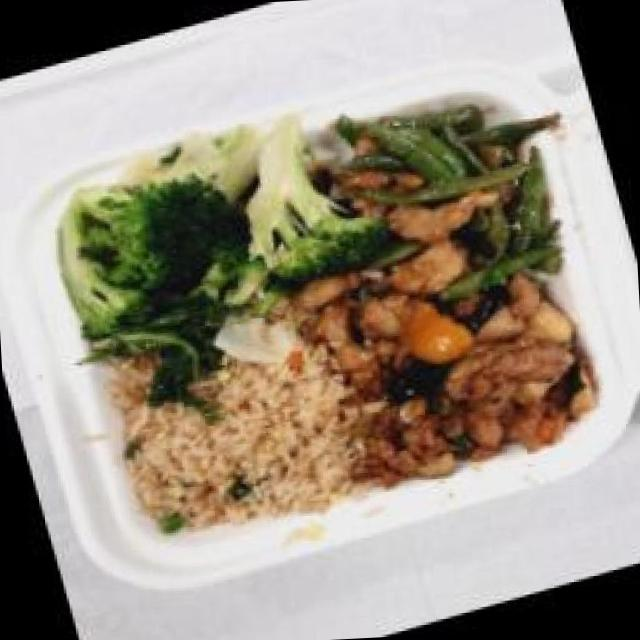Fried Rice: (103, 327, 382, 559)
Kung Pao Chicken: (310, 260, 625, 510)
String Bean Chicken Breast: (318, 69, 590, 335)
Super Greens: (26, 98, 369, 410)
